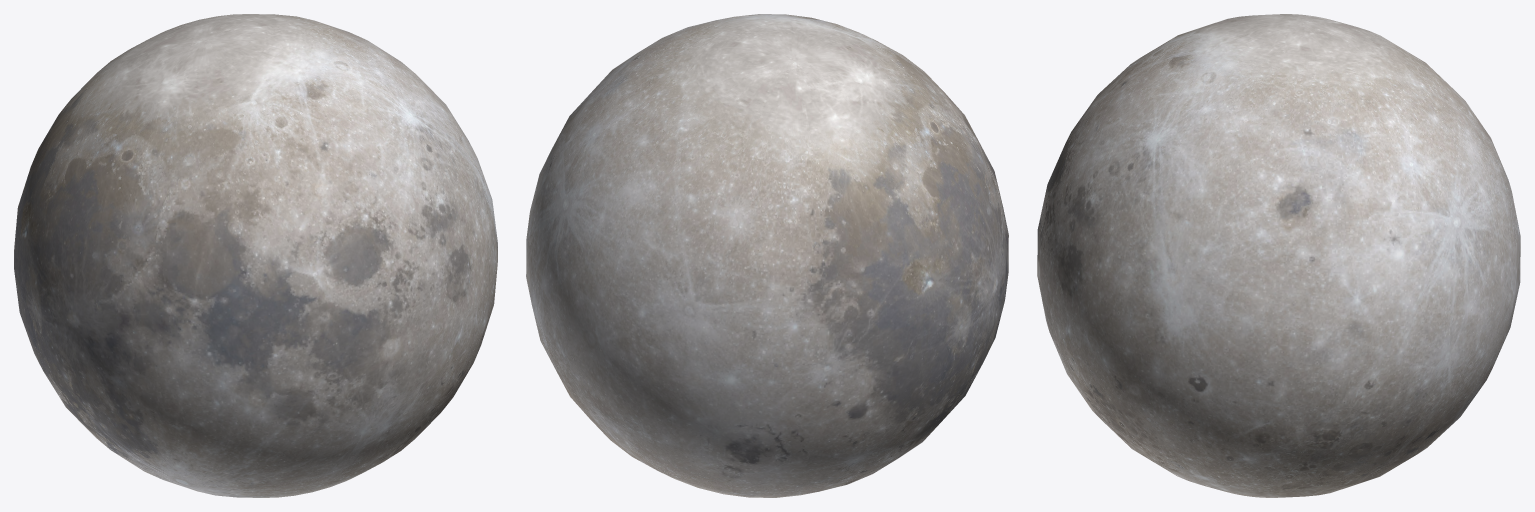
The model's file is Nastya_umnichka_sdelala_lunu.glb.
The picture shows the model from 3 angles, left to right: view 1: azimuth 30°, elevation 25°; view 2: azimuth 150°, elevation 25°; view 3: azimuth 270°, elevation 25°; orthographic projection.
Visible parts, largest first — view 1: Sphere; view 2: Sphere; view 3: Sphere.
Boxes of the visible parts, x1,y1,x2,y2 form: Sphere: [14, 14, 497, 497]; Sphere: [526, 14, 1008, 497]; Sphere: [1037, 14, 1520, 497].
Bounding box in the file's own units: 0.2598 × 0.2599 × 0.2589.
1 material, 1 textured.
